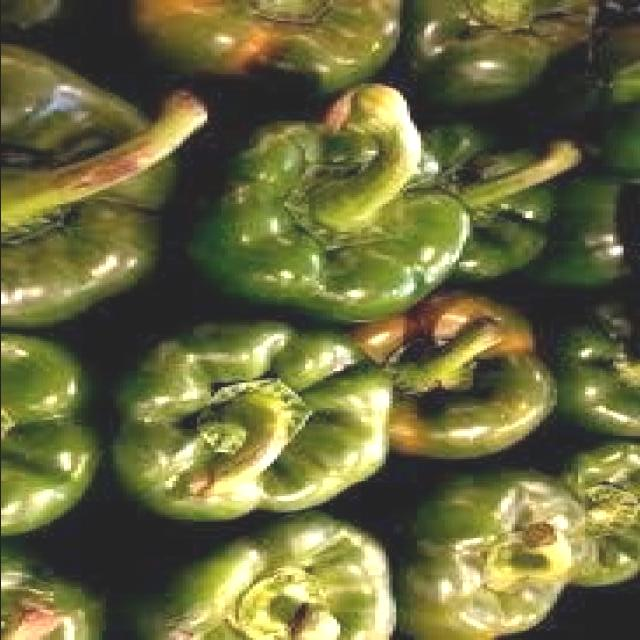bell_pepper: (177, 97, 479, 318), (92, 322, 403, 532), (1, 45, 187, 321), (158, 511, 400, 640), (406, 478, 590, 640), (406, 1, 602, 101)
